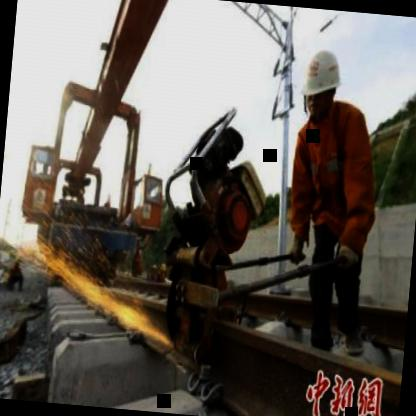helmet: (296, 38, 346, 132)
